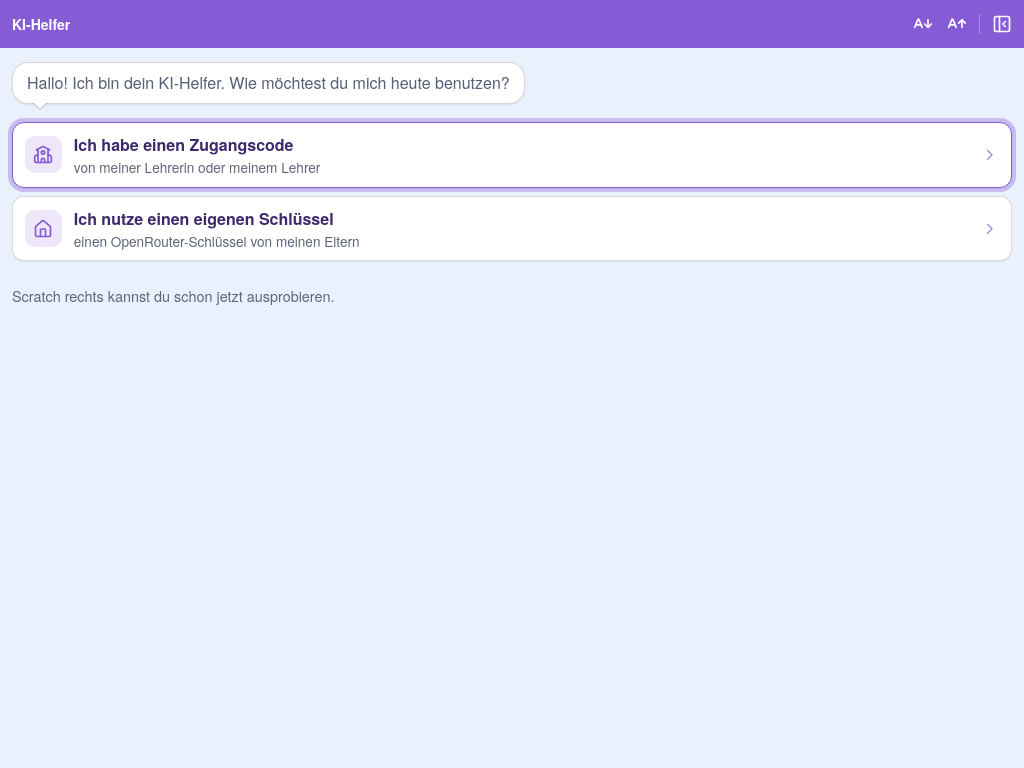
Test: AccessGate › the kid chooses first: no field until one of the two answers is picked, and it can be changed
Click the button "Ich habe einen Zugangscode" at (43, 155), box [12,122,1012,188]
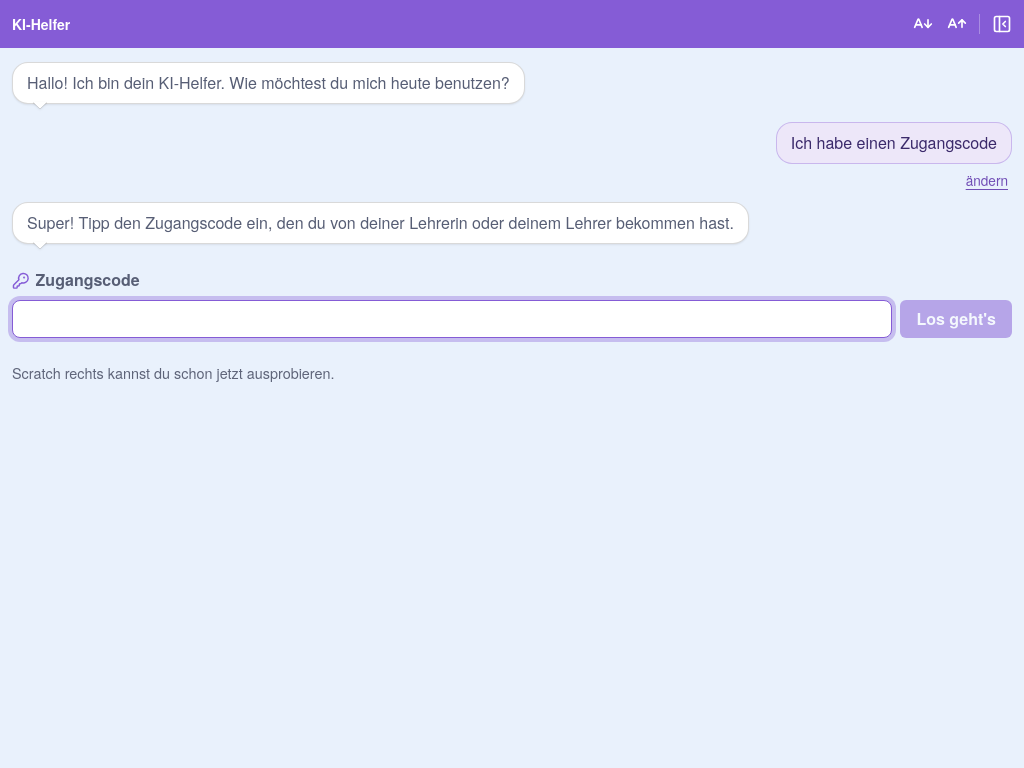
expect the text "Ich habe einen Zugangscode" is shown: met, box [776,122,1012,164]
Click the button "ändern" at (987, 180), box [962,168,1012,192]
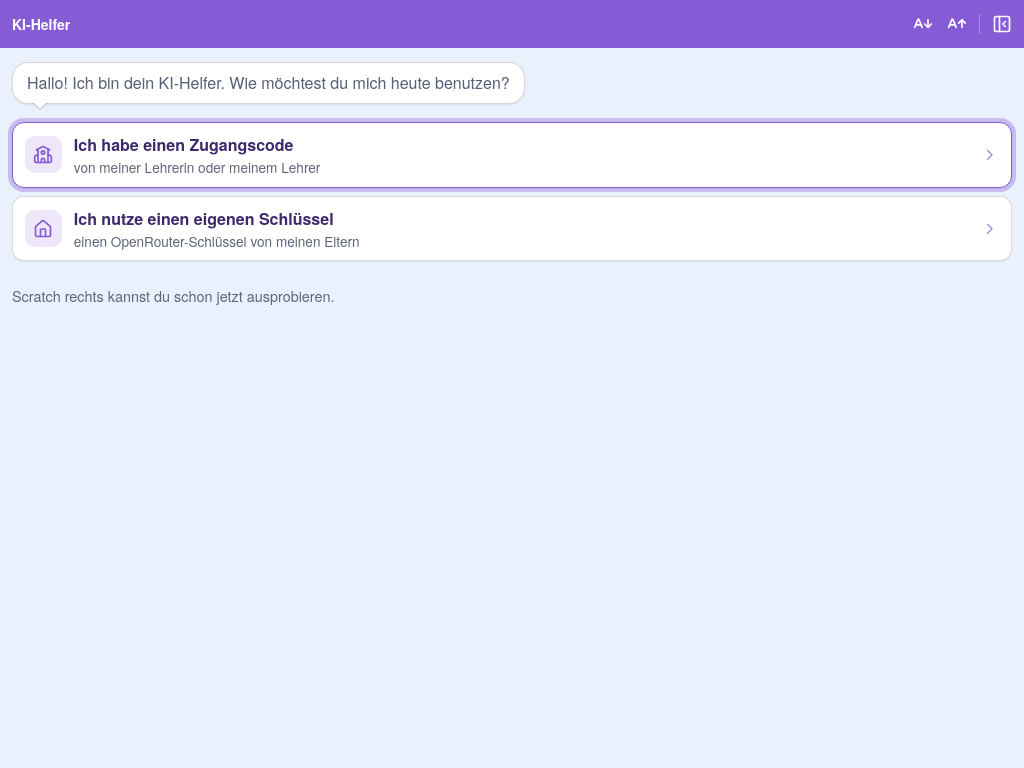
Click the button "Ich nutze einen eigenen Schlüssel" at (43, 229), box [12,196,1012,261]
(page scrolled)
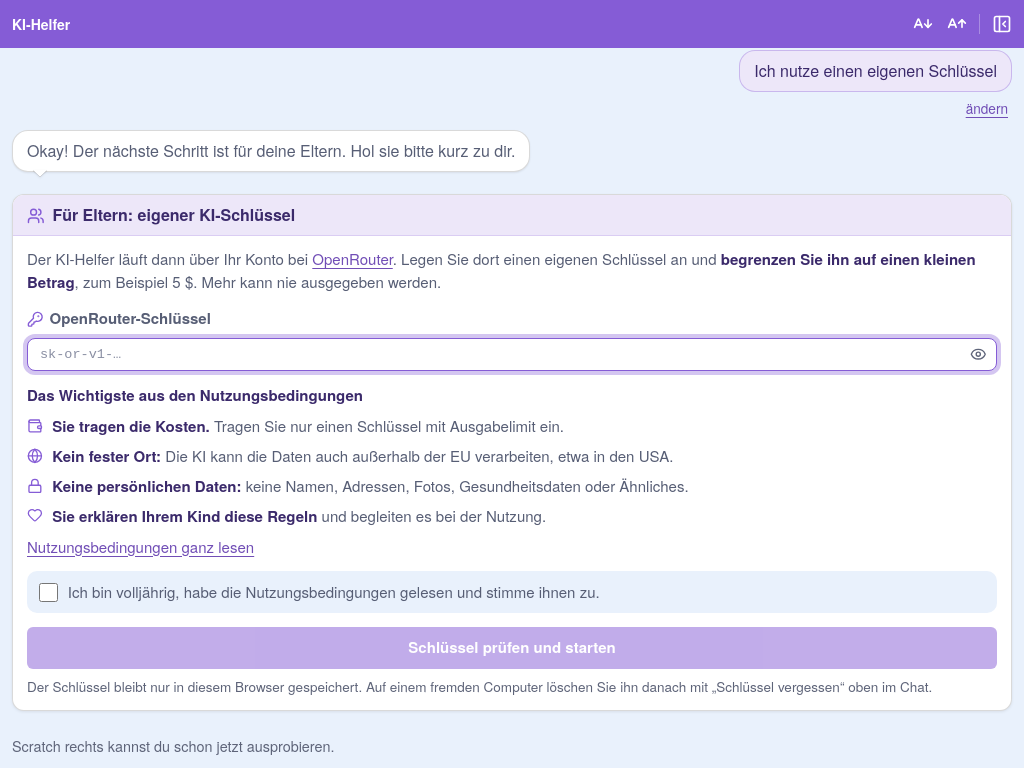
expect the element with test id "parents-sheet" shows "Für Eltern": met, box [53,203,295,226]
